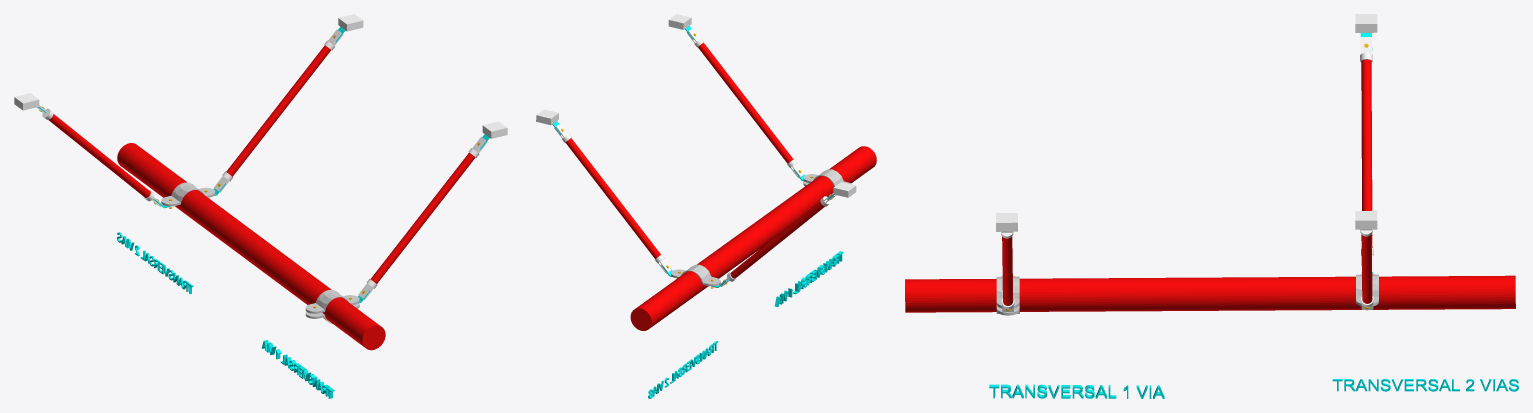
File: soporte_transv.glb
3 renders of one model, left to right at view 1: azimuth 30°, elevation 25°; view 2: azimuth 150°, elevation 25°; view 3: azimuth 270°, elevation 25°, orthographic. The views are drawn at different scales.
Parts seen in each view (by area): view 1: Geom3D (×8); view 2: Geom3D (×8); view 3: Geom3D (×6).
Part boxes in pixels (<box>): Geom3D (×8): <box>48,45,475,398</box>; Geom3D (×8): <box>565,42,876,398</box>; Geom3D (×6): <box>905,59,1518,398</box>.
Bounding box in the file's own units: 977 × 627 × 1227.
